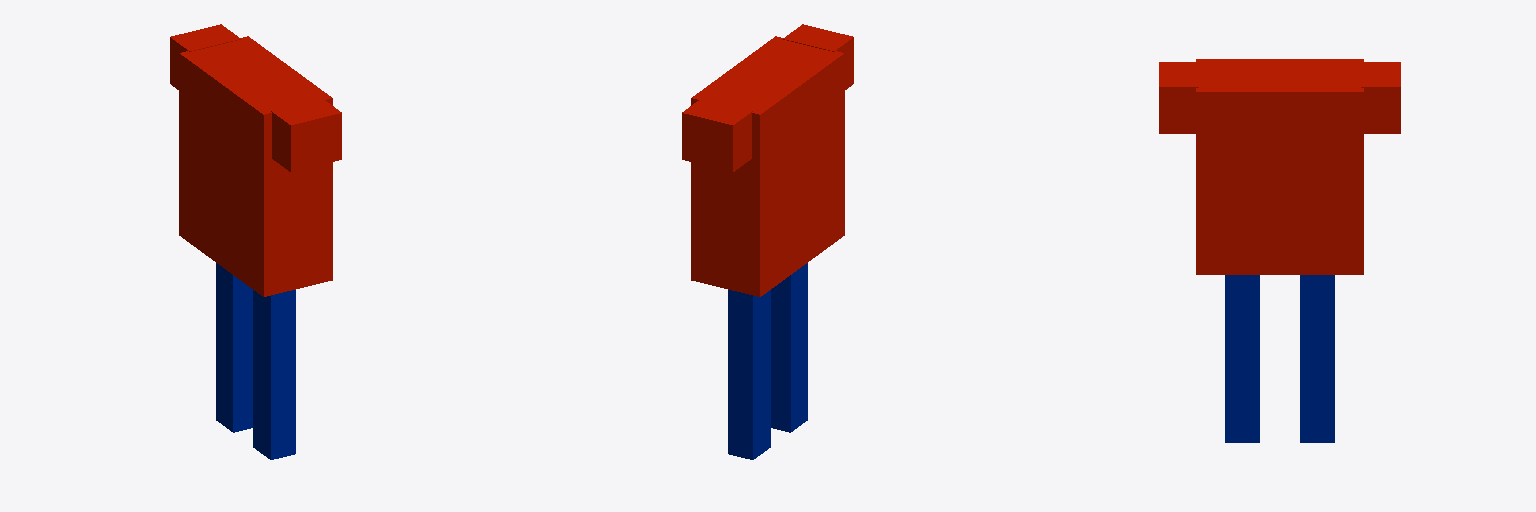
File: student.obj
3 renders of one model, left to right at view 1: azimuth 30°, elevation 25°; view 2: azimuth 150°, elevation 25°; view 3: azimuth 270°, elevation 25°, orthographic.
Visible parts, largest first — view 1: Cube.002_Cube.003, Cube_Cube.001, Cube.001_Cube.002, Cube.003_Cube.004, Cube.004_Cube.005; view 2: Cube.002_Cube.003, Cube.001_Cube.002, Cube_Cube.001, Cube.004_Cube.005, Cube.003_Cube.004; view 3: Cube.002_Cube.003, Cube.001_Cube.002, Cube_Cube.001, Cube.004_Cube.005, Cube.003_Cube.004.
Boxes of the visible parts, <box> form: Cube.002_Cube.003: <box>179,36,332,296</box>; Cube_Cube.001: <box>253,290,295,459</box>; Cube.001_Cube.002: <box>216,263,252,432</box>; Cube.003_Cube.004: <box>271,98,341,171</box>; Cube.004_Cube.005: <box>170,24,240,89</box>; Cube.002_Cube.003: <box>691,36,844,296</box>; Cube.001_Cube.002: <box>728,290,770,459</box>; Cube_Cube.001: <box>771,263,807,432</box>; Cube.004_Cube.005: <box>682,98,752,171</box>; Cube.003_Cube.004: <box>783,24,853,89</box>; Cube.002_Cube.003: <box>1196,59,1363,274</box>; Cube.001_Cube.002: <box>1300,275,1334,442</box>; Cube_Cube.001: <box>1225,275,1259,442</box>; Cube.004_Cube.005: <box>1361,62,1400,133</box>; Cube.003_Cube.004: <box>1159,62,1198,133</box>.
Bounding box in the file's own units: 0.531 × 2.66 × 1.61.